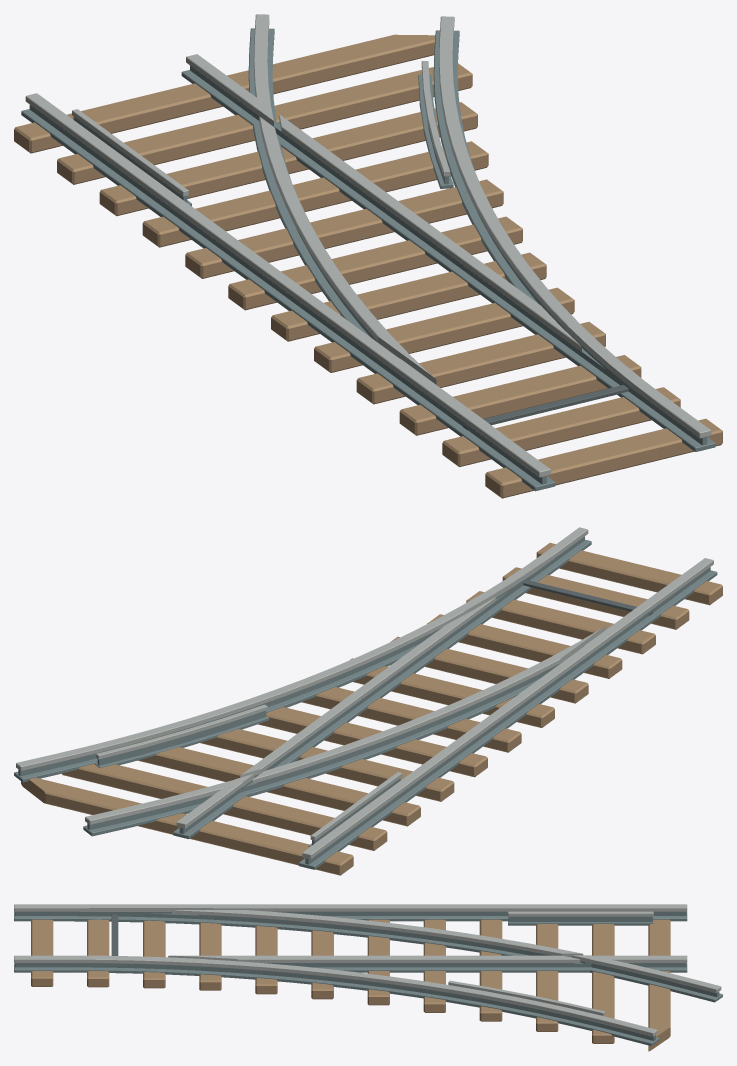
3 views of the same model, one above another, from view 1: azimuth 30°, elevation 25°; view 2: azimuth 150°, elevation 25°; view 3: azimuth 270°, elevation 25° (orthographic). The views are drawn at different scales.
Visible parts, largest first — view 1: Running foot fixed segment, Turnout sleeper.011, Running head fixed segment, Turnout sleeper.010, Running head fixed segment.001, Turnout sleeper.009, Running web fixed segment, Turnout sleeper.008, Turnout sleeper.007, Turnout sleeper, Turnout sleeper.006, Turnout sleeper.001 (+11 smaller); view 2: Running foot fixed segment, Running web fixed segment, Running head fixed segment.001, Turnout sleeper.011, Running head fixed segment, Turnout sleeper.010, Turnout sleeper.009, Running head fixed segment.003, Turnout sleeper.008, Turnout sleeper.007, Running head fixed segment.004, Turnout sleeper (+12 smaller); view 3: Running foot fixed segment, Running web fixed segment, Running head fixed segment.001, Running head fixed segment, Running head fixed segment.003, Running head fixed segment.004, Turnout sleeper.011, Turnout sleeper.010, Running head fixed segment.002, Turnout sleeper.009, Turnout sleeper.008, Turnout sleeper.001 (+12 smaller).
Boxes of the visible parts, box(x1,y1,x2,y2) form: Running foot fixed segment: box(21, 28, 715, 491); Turnout sleeper.011: box(14, 34, 435, 153); Running head fixed segment: box(25, 93, 550, 477); Turnout sleeper.010: box(57, 63, 472, 184); Running head fixed segment.001: box(438, 16, 711, 438); Turnout sleeper.009: box(99, 102, 477, 216); Running web fixed segment: box(29, 65, 707, 484); Turnout sleeper.008: box(142, 141, 488, 247); Turnout sleeper.007: box(185, 179, 503, 278); Turnout sleeper: box(485, 418, 722, 498); Turnout sleeper.006: box(228, 216, 522, 310); Turnout sleeper.001: box(442, 387, 680, 466); Running foot fixed segment: box(14, 539, 717, 869); Running web fixed segment: box(18, 536, 710, 864); Running head fixed segment.001: box(16, 527, 588, 771); Turnout sleeper.011: box(21, 777, 353, 875); Running head fixed segment: box(302, 558, 713, 859); Turnout sleeper.010: box(62, 763, 387, 850); Turnout sleeper.009: box(138, 747, 420, 826); Running head fixed segment.003: box(252, 626, 605, 783); Turnout sleeper.008: box(200, 729, 454, 801); Turnout sleeper.007: box(258, 707, 487, 777); Running head fixed segment.004: box(240, 597, 496, 777); Turnout sleeper: box(536, 542, 722, 605); Running foot fixed segment: box(14, 912, 722, 1046); Running web fixed segment: box(15, 912, 719, 1040); Running head fixed segment.001: box(14, 955, 657, 1036); Running head fixed segment: box(14, 904, 687, 911); Running head fixed segment.003: box(172, 910, 583, 957); Running head fixed segment.004: box(168, 955, 580, 962); Turnout sleeper.011: box(648, 919, 670, 1051); Turnout sleeper.010: box(592, 924, 614, 1043); Running head fixed segment.002: box(571, 955, 721, 992); Turnout sleeper.009: box(536, 924, 558, 1031); Turnout sleeper.008: box(479, 919, 502, 1021); Turnout sleeper.001: box(87, 919, 109, 987).
Bounding box in the file's own units: 2.91 × 0.2 × 6.32.
